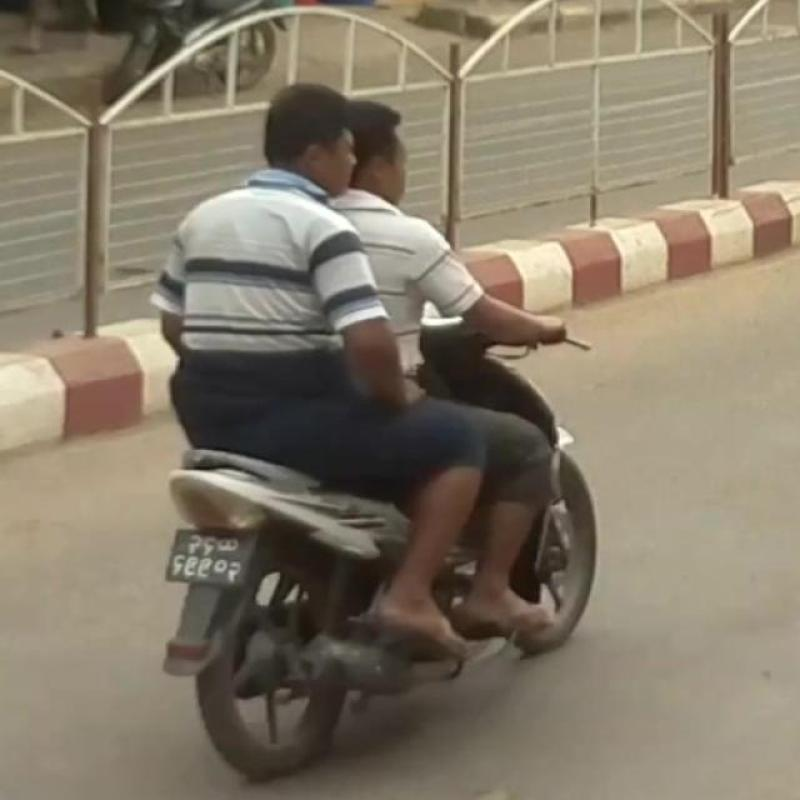nohelmet: (243, 59, 378, 227)
